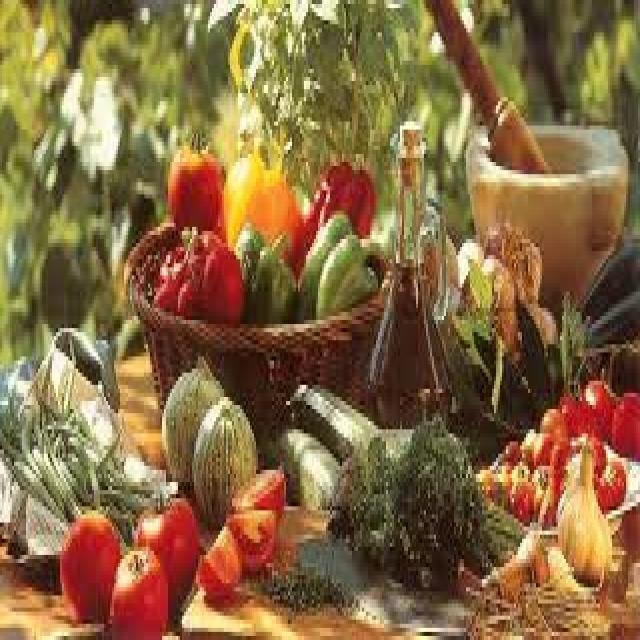organic waste: (332, 418, 524, 588), (442, 304, 534, 433), (154, 215, 242, 320), (296, 207, 380, 316), (220, 138, 298, 255), (190, 389, 254, 522), (132, 482, 194, 612), (160, 352, 222, 482), (482, 518, 550, 636), (2, 409, 72, 523), (554, 438, 610, 580), (58, 502, 122, 616), (518, 296, 586, 397), (232, 215, 298, 316), (296, 154, 372, 239), (286, 380, 376, 450), (164, 125, 222, 227), (108, 539, 166, 636), (264, 426, 342, 498), (576, 235, 638, 316), (460, 255, 514, 348), (482, 218, 542, 296), (0, 434, 56, 514), (224, 502, 274, 567), (556, 292, 590, 384), (194, 522, 238, 592), (266, 567, 348, 604), (230, 462, 284, 518), (582, 292, 638, 344), (422, 227, 456, 296), (66, 434, 98, 506), (608, 384, 638, 454), (136, 243, 172, 300), (582, 377, 612, 438), (94, 474, 150, 506), (90, 417, 120, 474), (18, 401, 38, 474), (538, 466, 562, 526), (380, 417, 422, 450), (506, 470, 532, 522), (560, 389, 590, 433), (540, 401, 564, 450), (528, 300, 556, 336), (604, 454, 624, 502), (530, 429, 556, 462), (112, 470, 146, 494), (110, 494, 132, 531), (454, 239, 478, 271), (500, 437, 520, 470), (482, 462, 502, 494), (588, 437, 602, 478), (508, 454, 530, 478), (592, 478, 610, 506)
